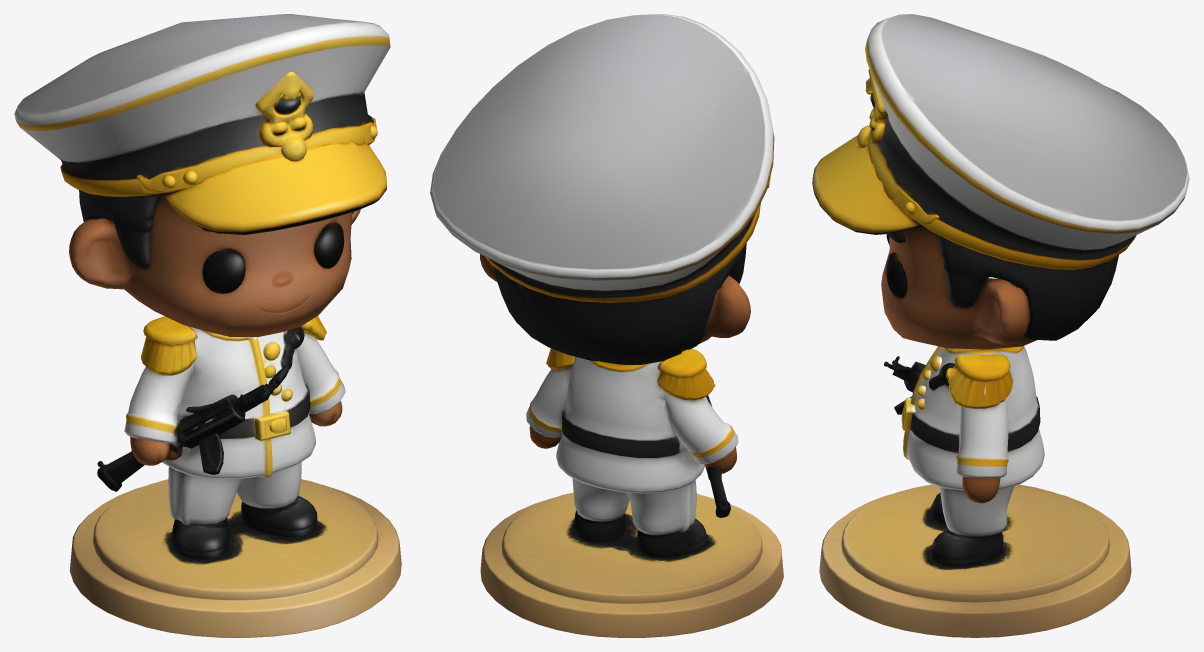
The model's file is brunei-pawn.glb.
3 views of the same model, side by side, from view 1: azimuth 30°, elevation 25°; view 2: azimuth 150°, elevation 25°; view 3: azimuth 270°, elevation 25° (orthographic). The views are drawn at different scales.
Visible parts, largest first — view 1: tripo_565ed8ad_3564_44a9_97c0_89719ca68388; view 2: tripo_565ed8ad_3564_44a9_97c0_89719ca68388; view 3: tripo_565ed8ad_3564_44a9_97c0_89719ca68388.
Part boxes in pixels (<box>): tripo_565ed8ad_3564_44a9_97c0_89719ca68388: <box>14,14,401,637</box>; tripo_565ed8ad_3564_44a9_97c0_89719ca68388: <box>430,14,783,637</box>; tripo_565ed8ad_3564_44a9_97c0_89719ca68388: <box>812,14,1189,637</box>.
Bounding box in the file's own units: 0.5981 × 0.9995 × 0.6343.
1 material, 1 textured.
